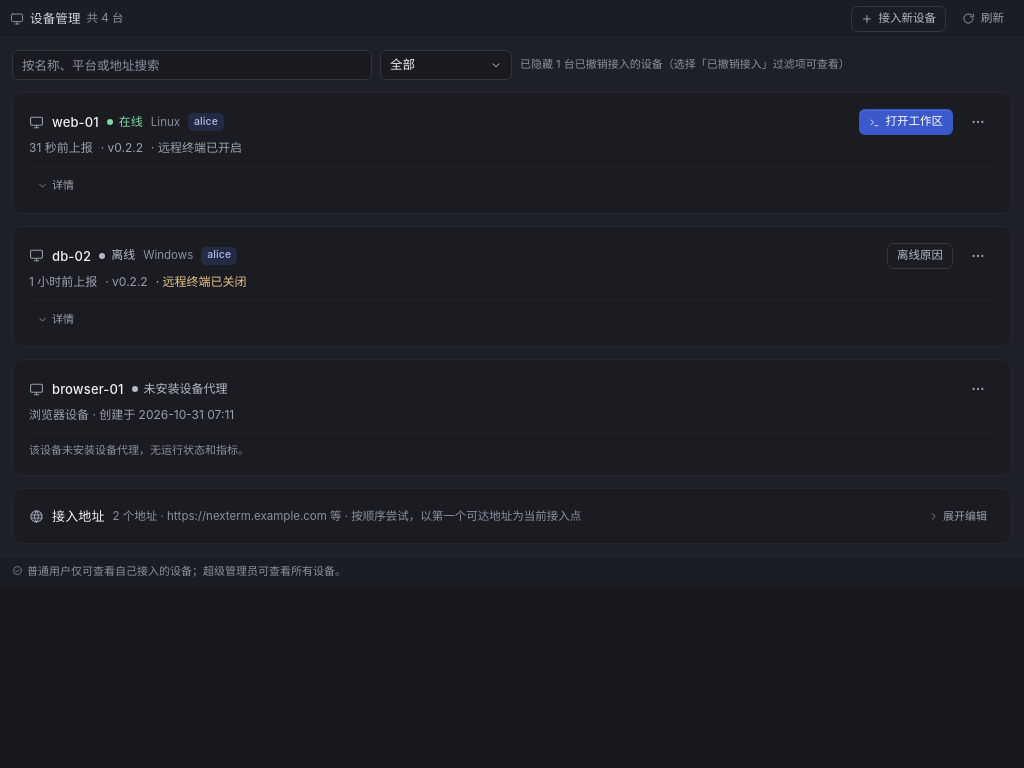
Device management view - enrollment code issuance › closes the panel on Escape
Click the button "接入新设备".
click(898, 18)  # box [850,6,946,32]
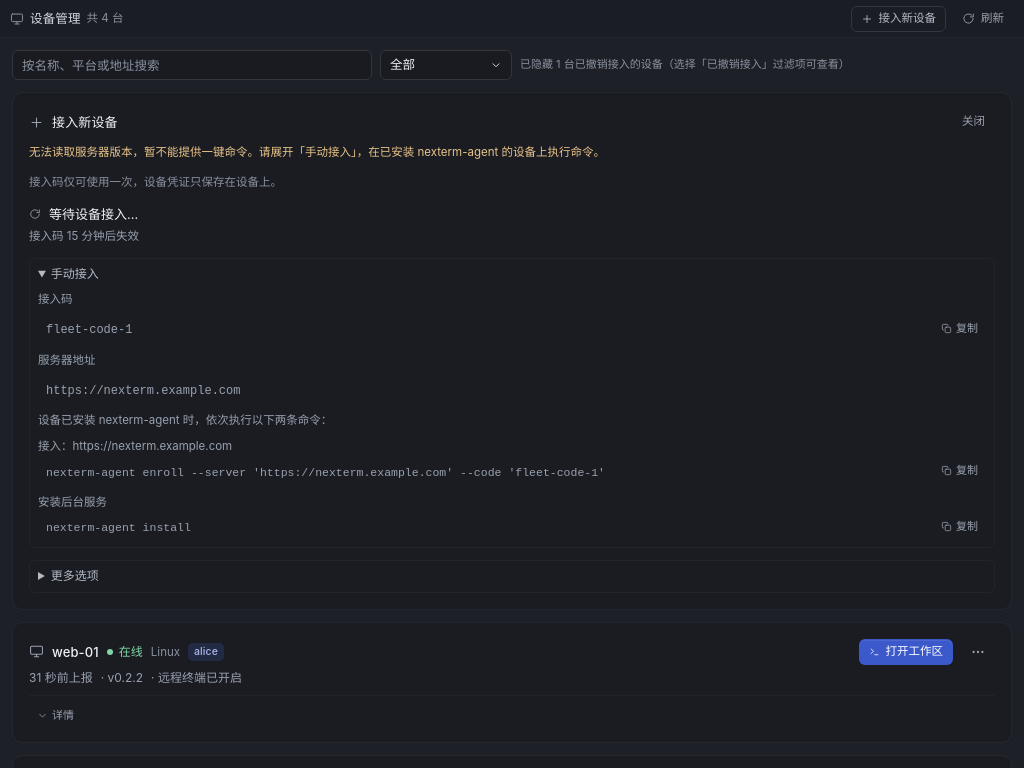
Press Escape in the heading with id "enroll-panel-title", box [52,112,118,132]
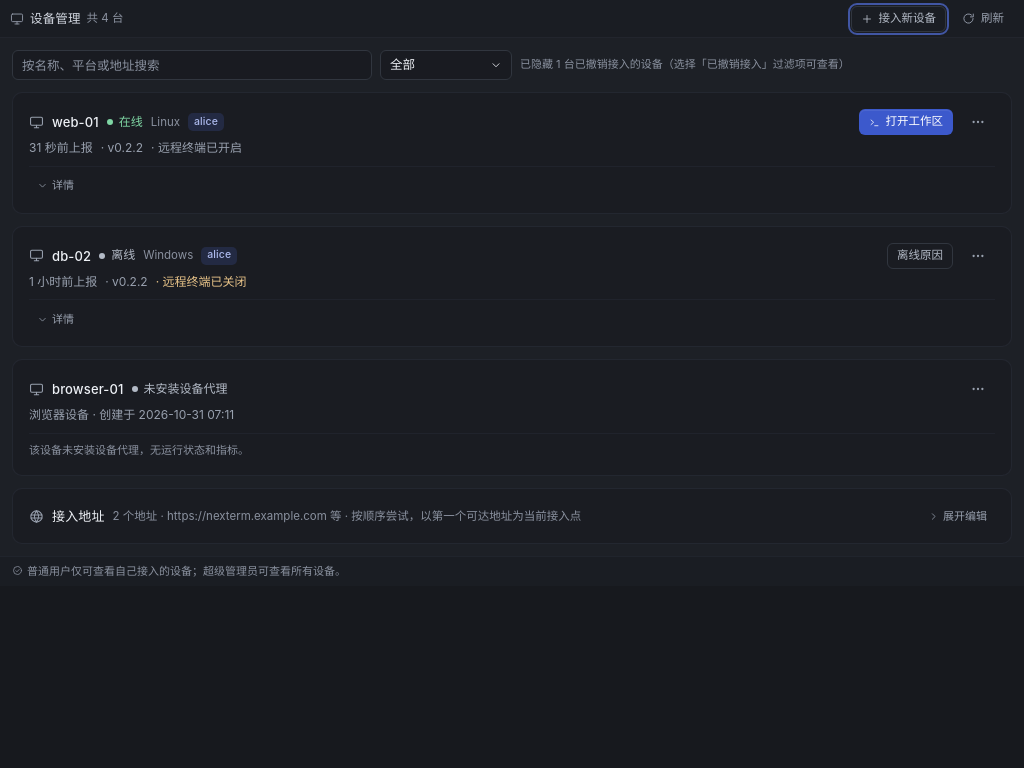
Result: the heading with id "enroll-panel-title" is gone
